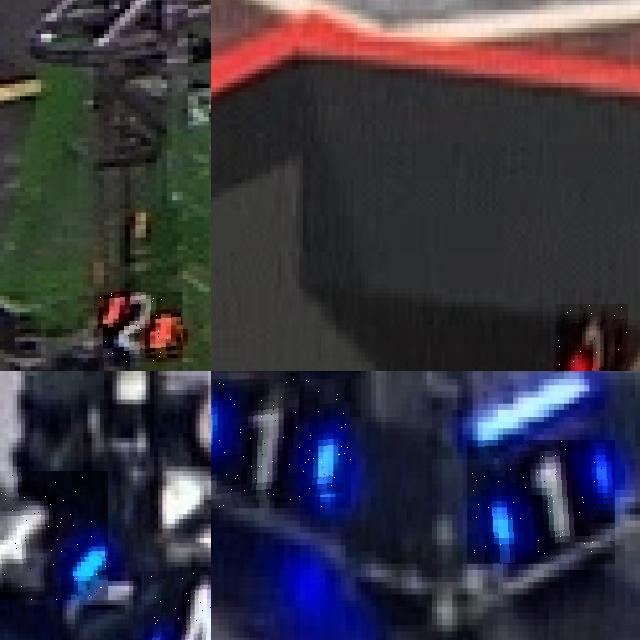B1: (467, 440, 615, 564), (211, 379, 350, 508)
B4: (0, 471, 108, 600), (143, 571, 211, 640)
R2: (94, 292, 182, 362), (555, 304, 628, 371)
